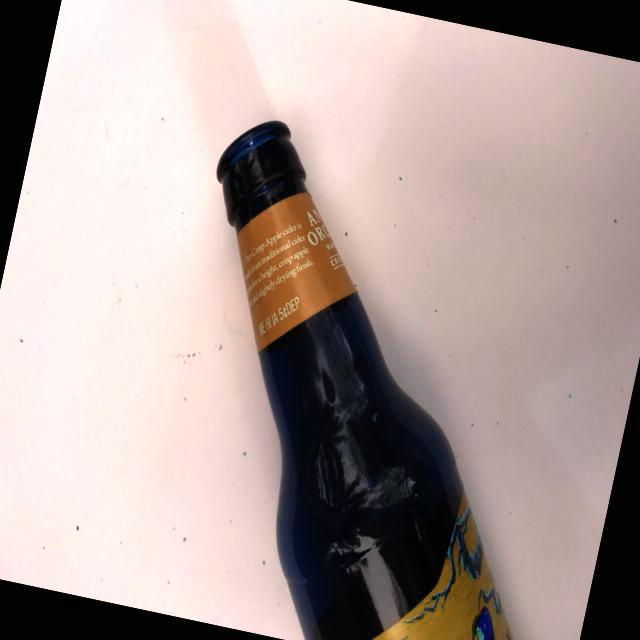glass: (96, 87, 640, 640)
